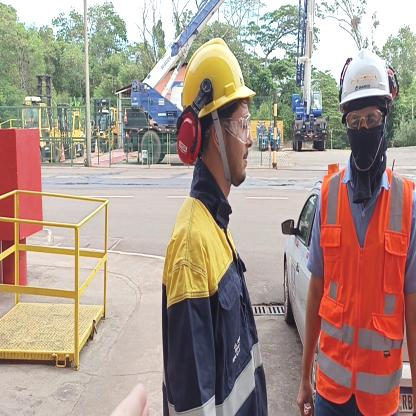Balaclava: (338, 104, 390, 195)
C_eletrica: (155, 189, 273, 416)
Capacete: (177, 37, 260, 110), (339, 52, 393, 107)
colete: (322, 176, 402, 411)
